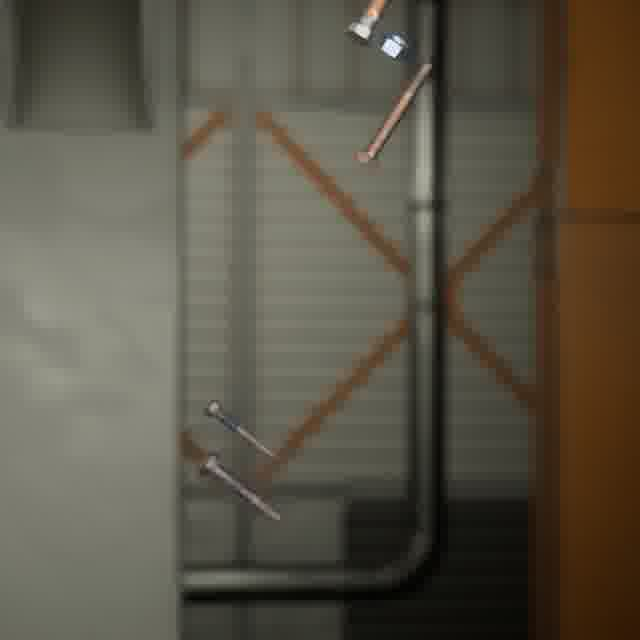bolt: (350, 55, 438, 174), (193, 446, 288, 528), (198, 394, 282, 465), (341, 0, 396, 50)
nut: (373, 27, 415, 64)
